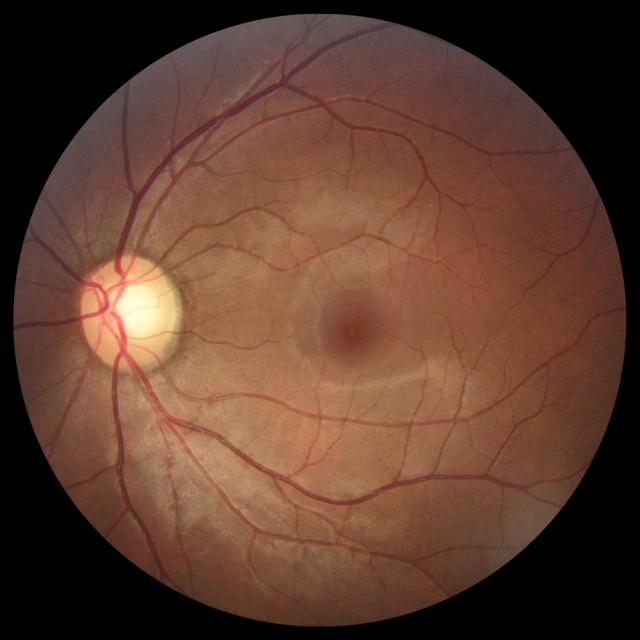OC: (105, 280, 159, 339)
OD: (81, 254, 182, 370)
